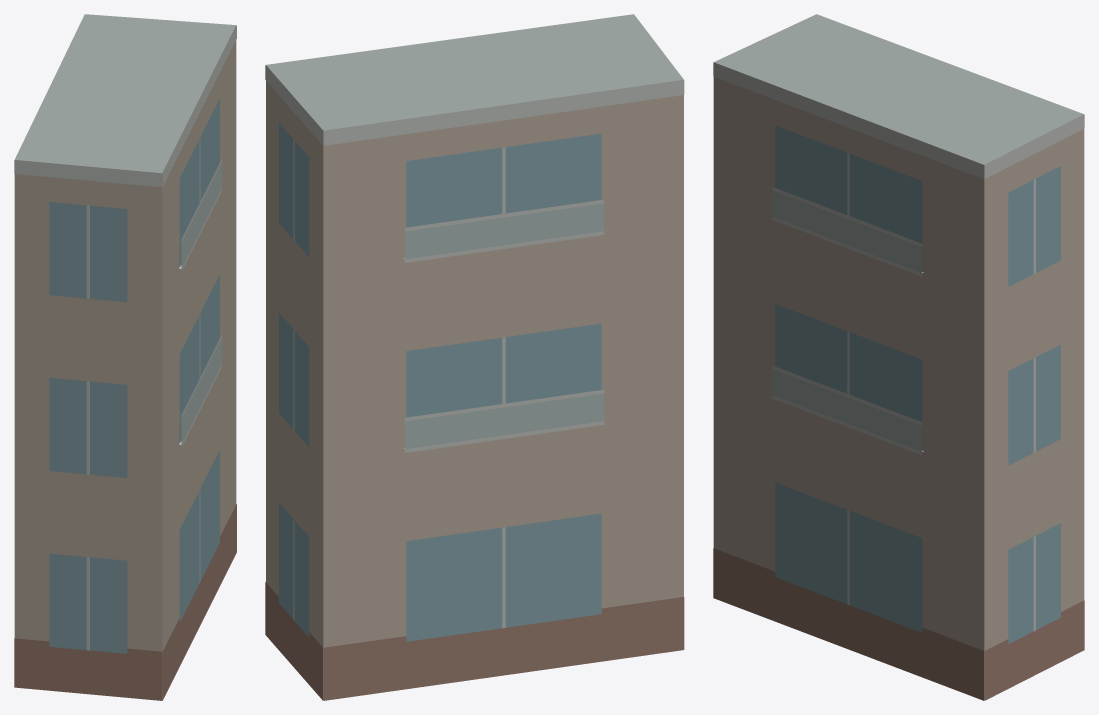
The model's file is survey-upis-32477105.glb.
3 views of the same model, side by side, from view 1: azimuth 30°, elevation 25°; view 2: azimuth 150°, elevation 25°; view 3: azimuth 270°, elevation 25° (orthographic). The views are drawn at different scales.
Parts seen in each view (by area): view 1: survey-upis-32477105.tmp; view 2: survey-upis-32477105.tmp; view 3: survey-upis-32477105.tmp.
Part boxes in pixels (x1=…): survey-upis-32477105.tmp: x1=14, y1=14, x2=236, y2=700; survey-upis-32477105.tmp: x1=265, y1=14, x2=684, y2=700; survey-upis-32477105.tmp: x1=713, y1=14, x2=1084, y2=700.
Size of the model in its own units: 5.54 by 9.15 by 5.75.
